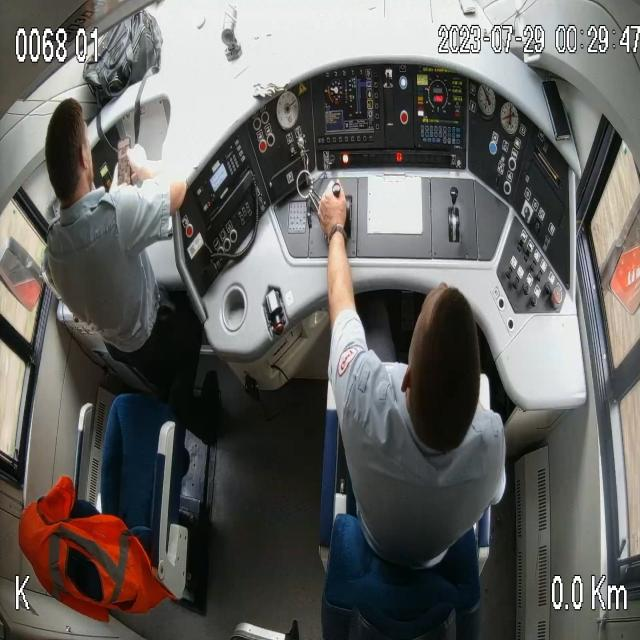smartphone: (117, 132, 136, 187)
